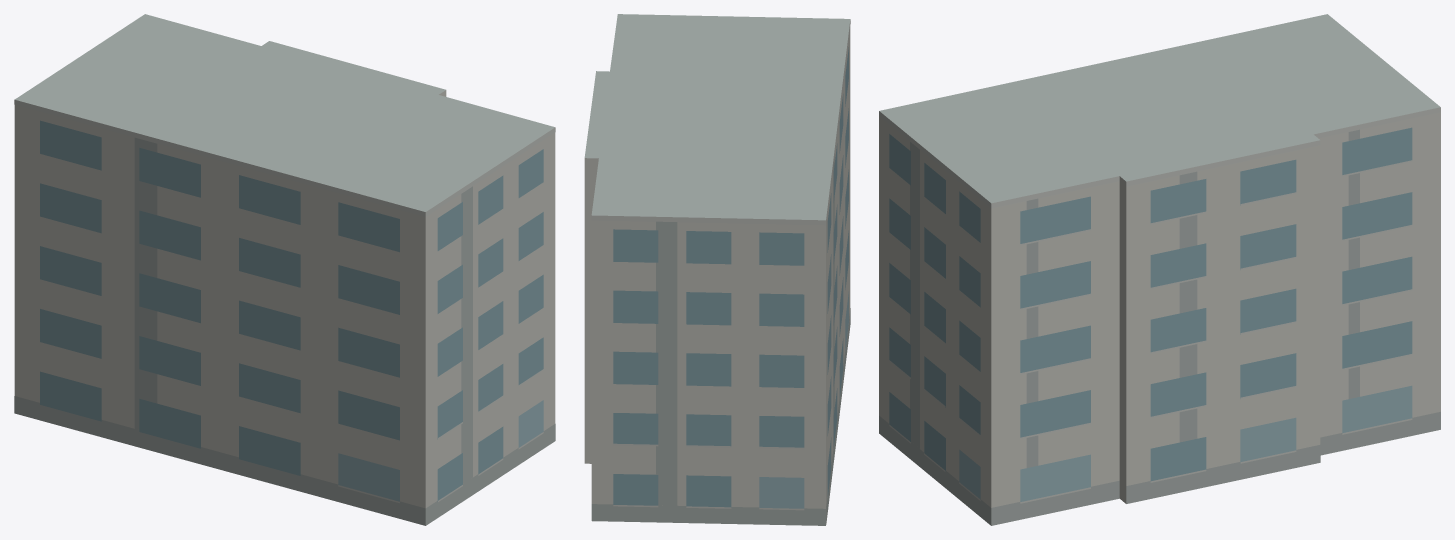
Rendered from survey-upis-33036186.glb.
The picture shows the model from 3 angles, left to right: view 1: azimuth 30°, elevation 25°; view 2: azimuth 150°, elevation 25°; view 3: azimuth 270°, elevation 25°; orthographic projection. The views are drawn at different scales.
Parts seen in each view (by area): view 1: survey-upis-33036186.tmp; view 2: survey-upis-33036186.tmp; view 3: survey-upis-33036186.tmp.
Part boxes in pixels (x1,y1,x2,y2): survey-upis-33036186.tmp: (14,14,555,525); survey-upis-33036186.tmp: (584,14,850,525); survey-upis-33036186.tmp: (879,14,1440,525).
Bounding box in the file's own units: 19.21 × 15.25 × 24.08.
